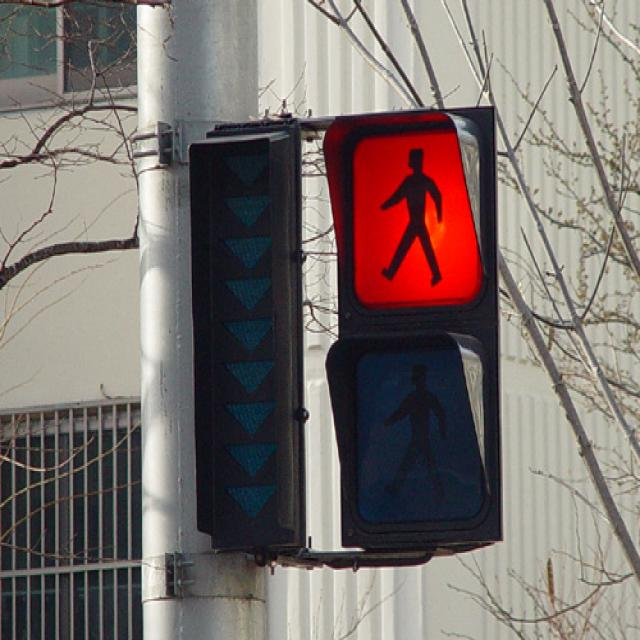Not go: (298, 99, 504, 586), (320, 100, 510, 318)
